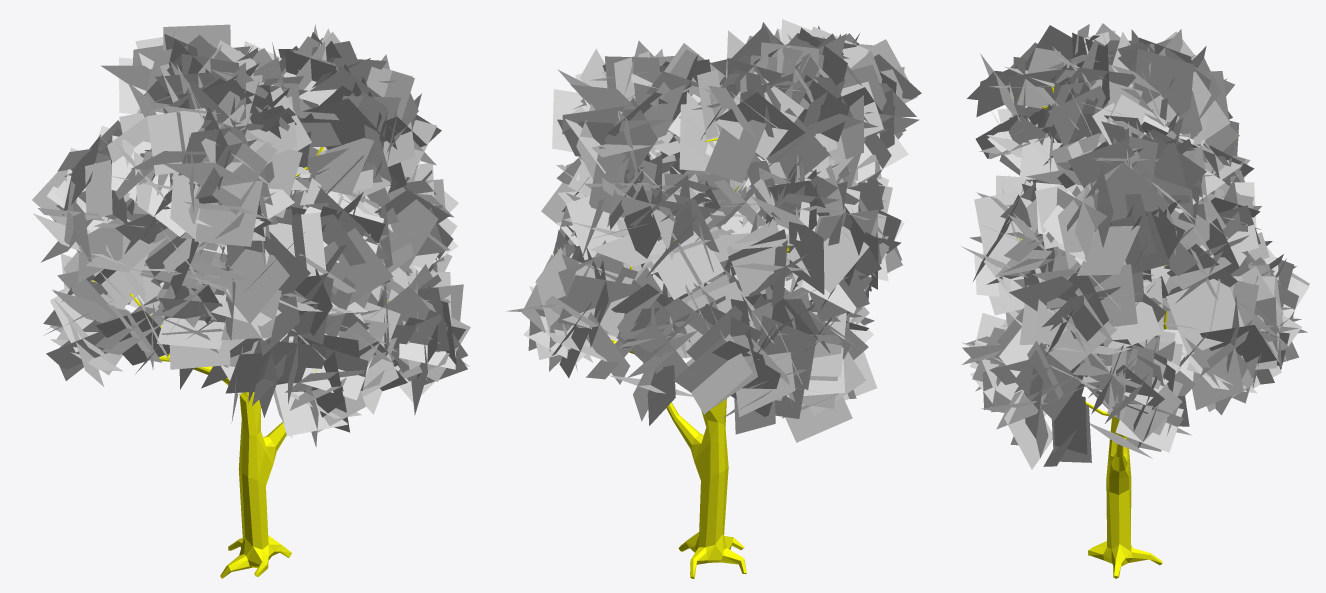
Rendered from tree_maple.glb.
3 views of the same model, side by side, from view 1: azimuth 30°, elevation 25°; view 2: azimuth 150°, elevation 25°; view 3: azimuth 270°, elevation 25° (orthographic). The views are drawn at different scales.
Visible parts, largest first — view 1: Maple_LOD0, SM_Maple_LOD0; view 2: Maple_LOD0, SM_Maple_LOD0; view 3: Maple_LOD0, SM_Maple_LOD0.
Part boxes in pixels (<box>): Maple_LOD0: <box>32,24,470,447</box>; SM_Maple_LOD0: <box>92,147,388,578</box>; Maple_LOD0: <box>506,19,921,442</box>; SM_Maple_LOD0: <box>611,138,808,578</box>; Maple_LOD0: <box>961,23,1309,469</box>; SM_Maple_LOD0: <box>1012,86,1167,578</box>.
Bounding box in the file's own units: 7.78 × 10.57 × 6.74.
